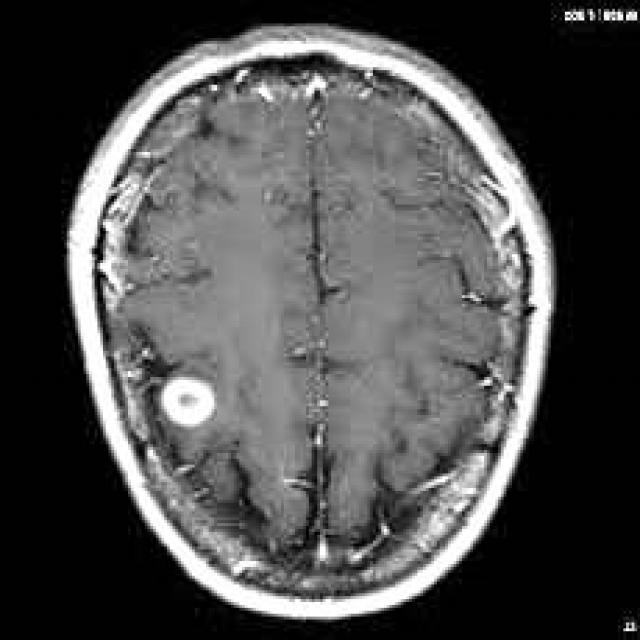tumor: (159, 374, 217, 435)
